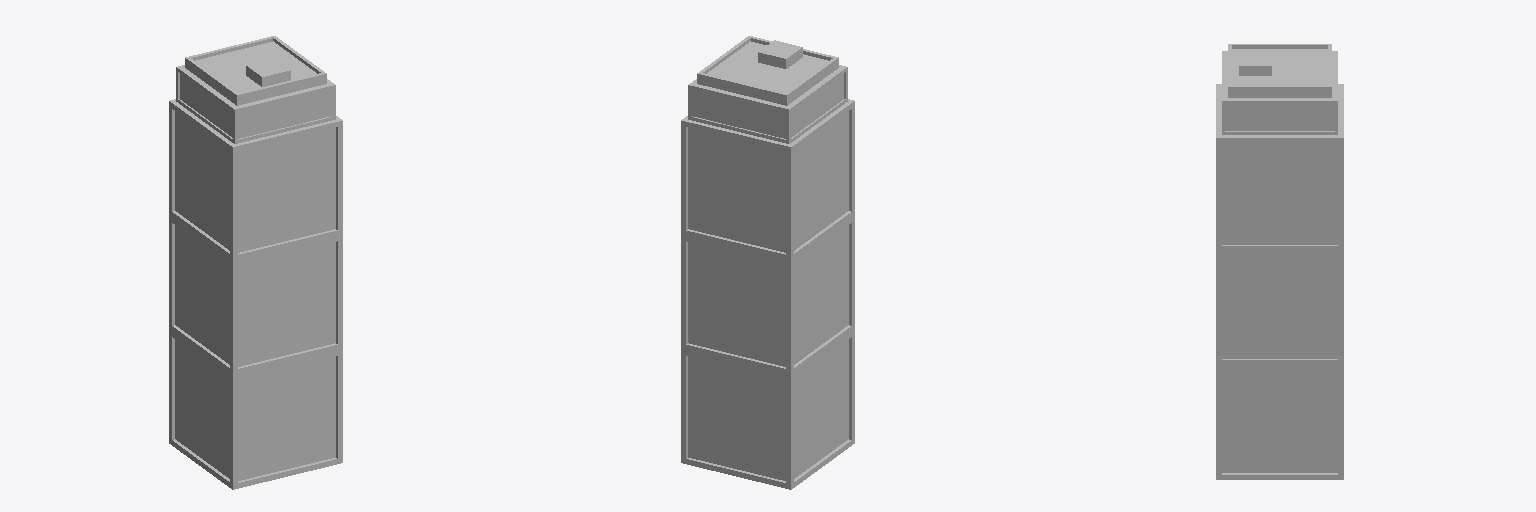
3 renders of one model, left to right at view 1: azimuth 30°, elevation 25°; view 2: azimuth 150°, elevation 25°; view 3: azimuth 270°, elevation 25°, orthographic.
Visible parts, largest first — view 1: Highrise_3; view 2: Highrise_3; view 3: Highrise_3.
Boxes of the visible parts, x1=… form: Highrise_3: x1=169, y1=36, x2=342, y2=489; Highrise_3: x1=681, y1=36, x2=854, y2=489; Highrise_3: x1=1216, y1=44, x2=1343, y2=479.
Bounding box in the file's own units: 106 × 361 × 106.